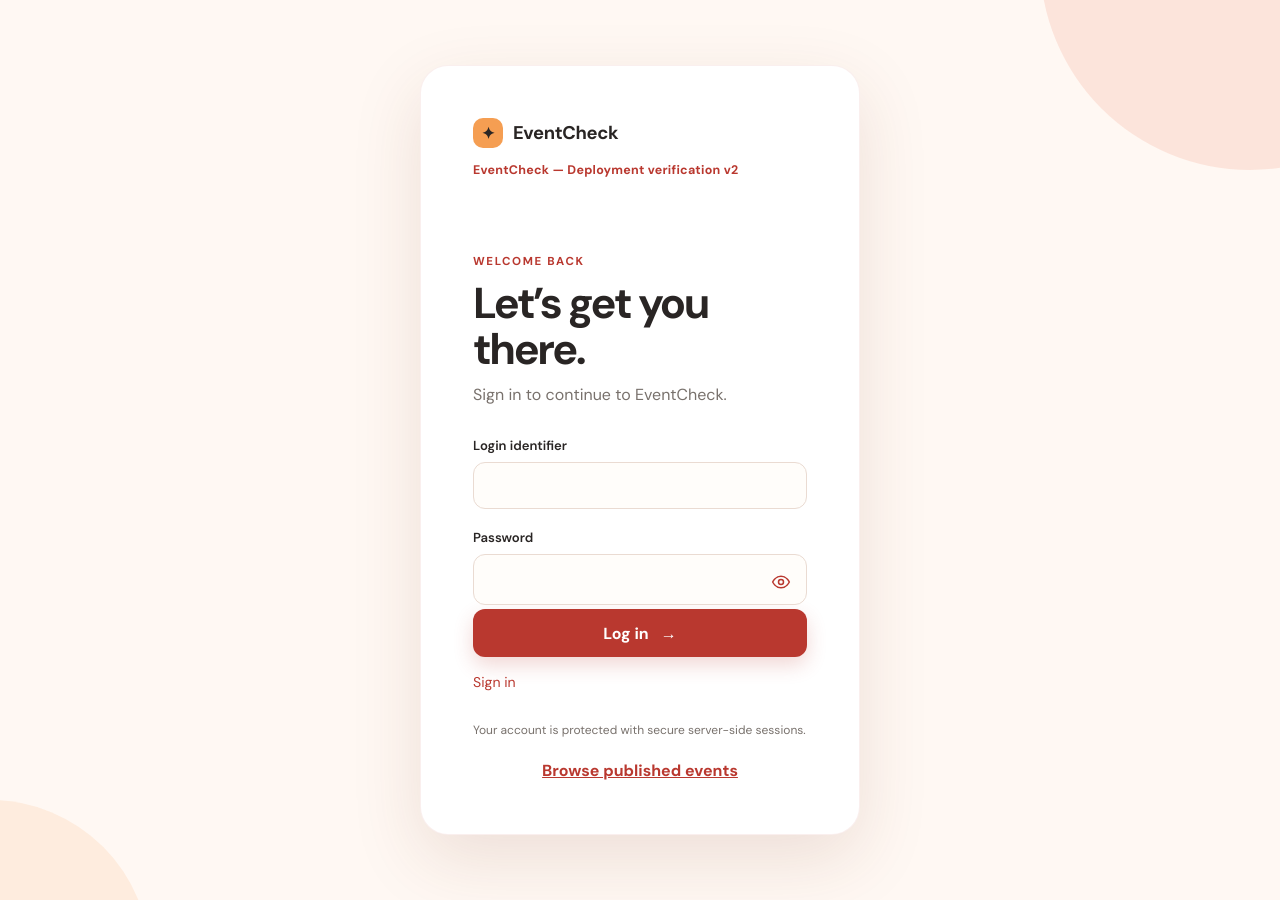
F-01 authentication UI (TEST-F01-12) › handles invalid, malformed, and network-failed login responses
Expected: the message reads "Sign in", [473,673,516,691]
Type "unknown@example.test" into the field labelled "Login identifier".
click(640, 486); type("unknown@example.test")  # box [473,462,807,509]
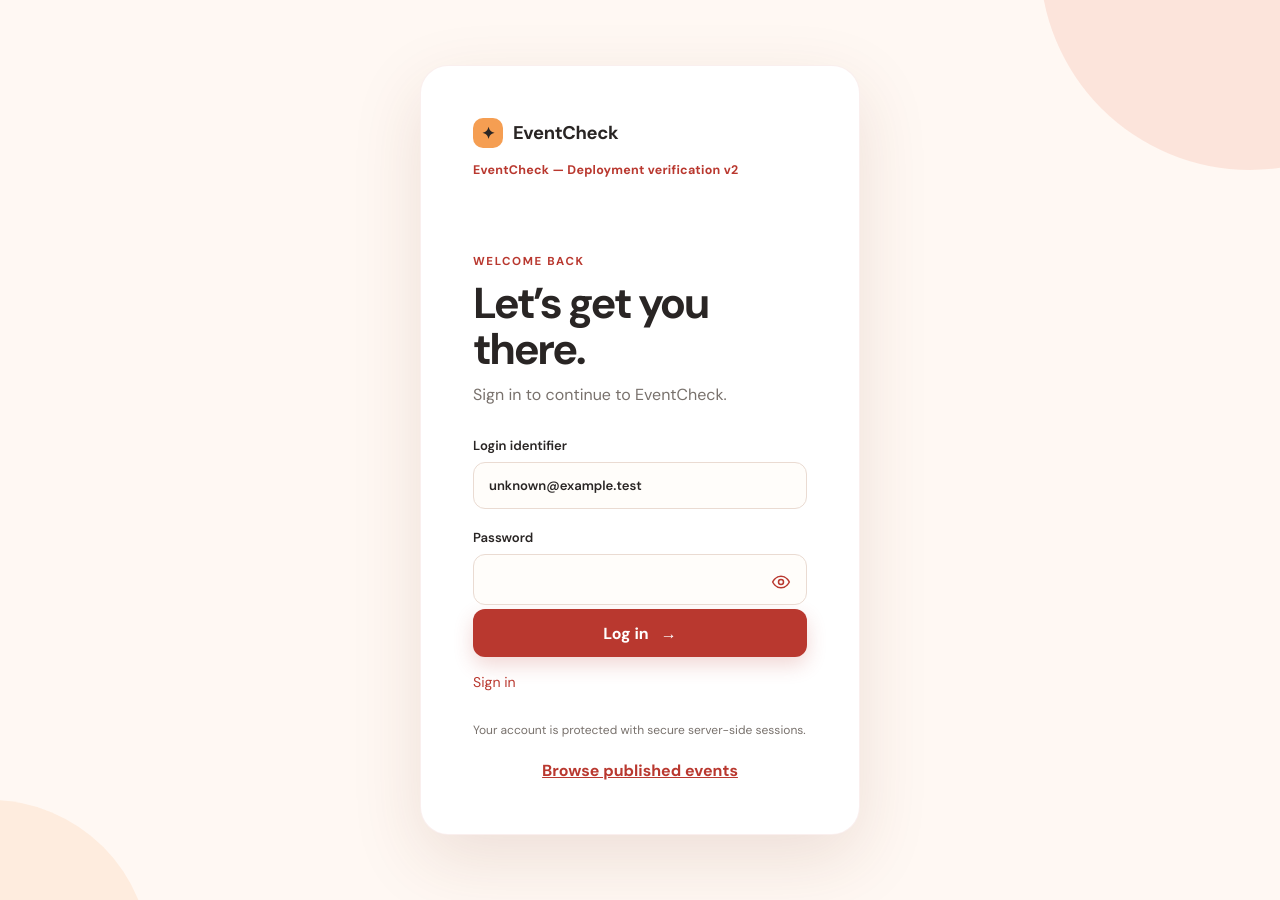
Type "wrong" into the password field labelled "Password".
click(640, 580); type("wrong")  # box [473,554,807,605]
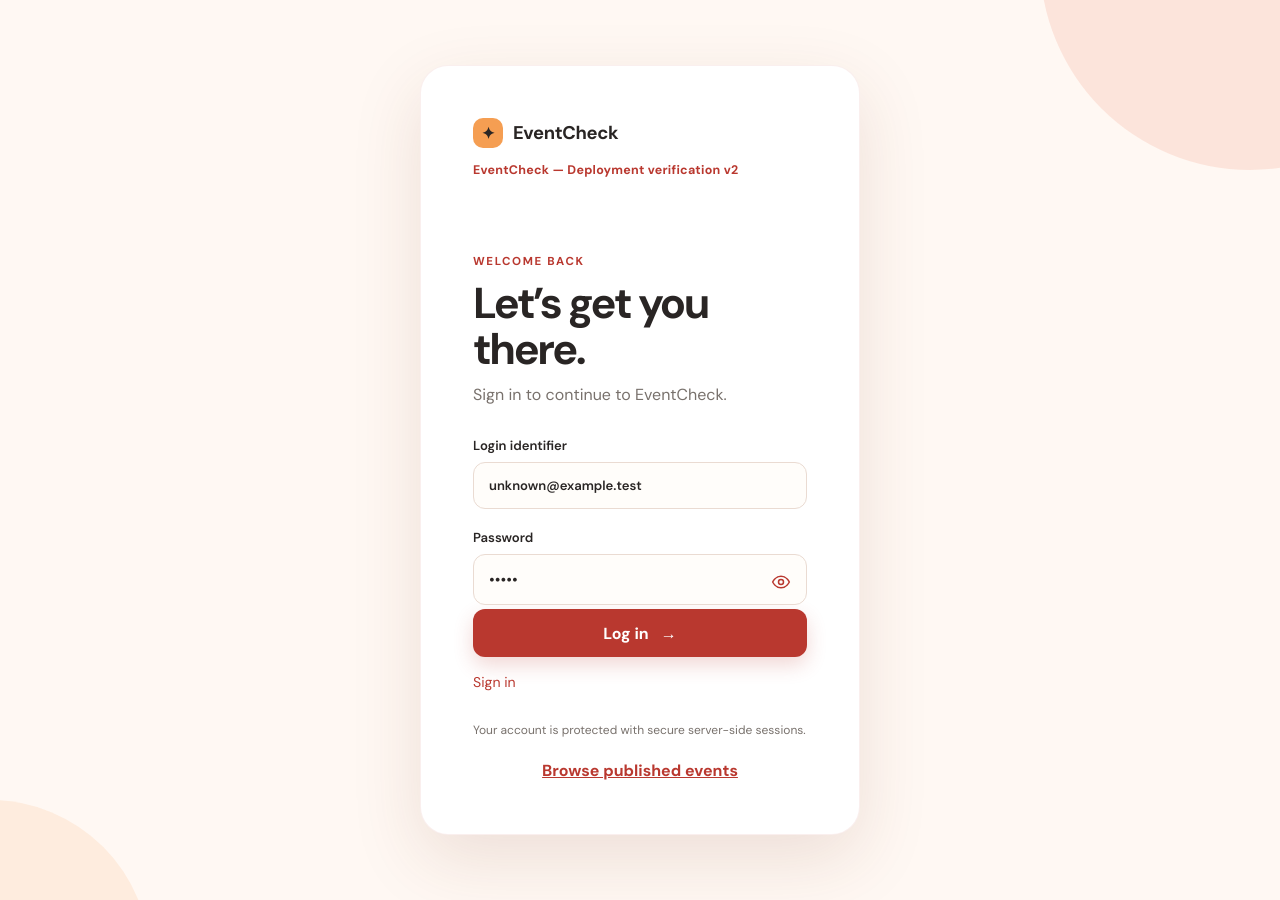
Click the button "Log in →".
click(640, 633)  # box [473,609,807,657]
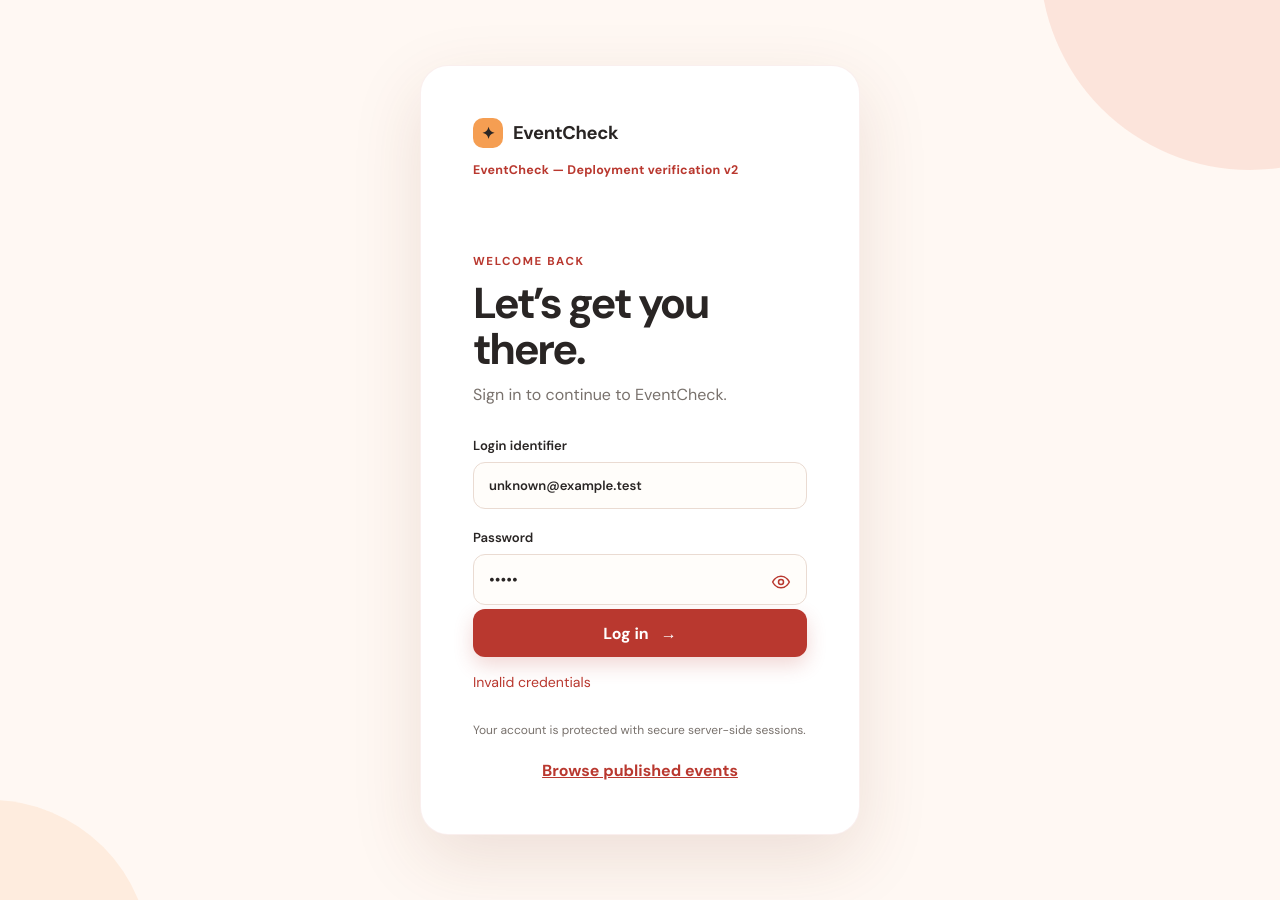
Expected: the message reads "Invalid credentials", [473,673,591,691]
Submit the form "Login", box [473,437,807,657]
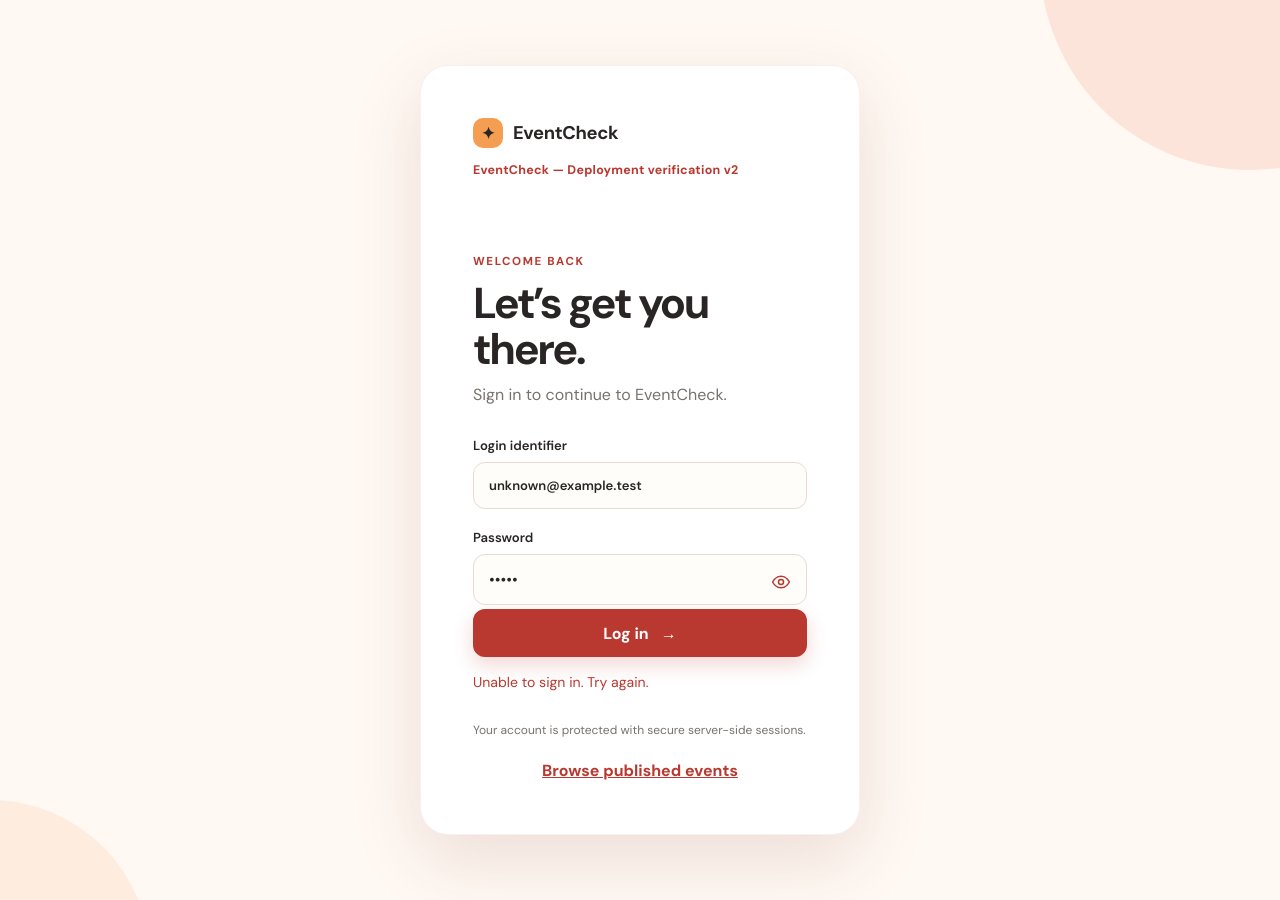
Expected: the message shows "Unable to sign in", [473,673,648,691]
